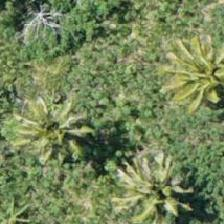coconut_tree: (12, 82, 102, 172), (110, 151, 200, 223), (164, 29, 223, 119)
